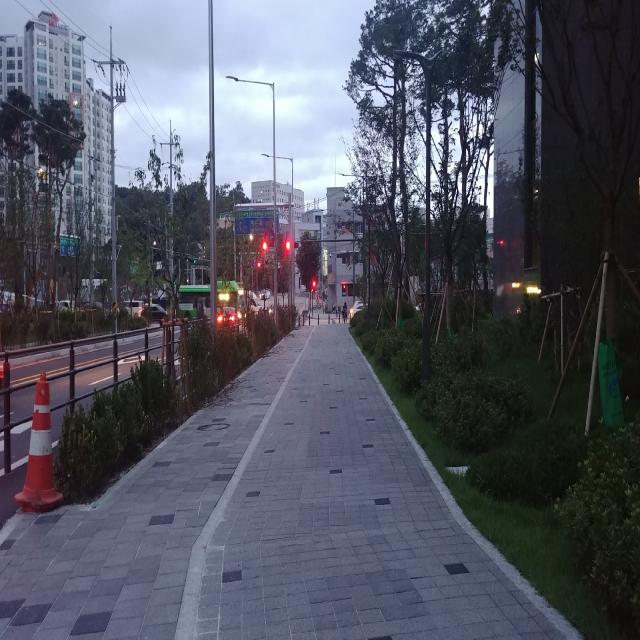빨간불: (313, 276, 316, 296)
횡단보도: (304, 318, 350, 326)
